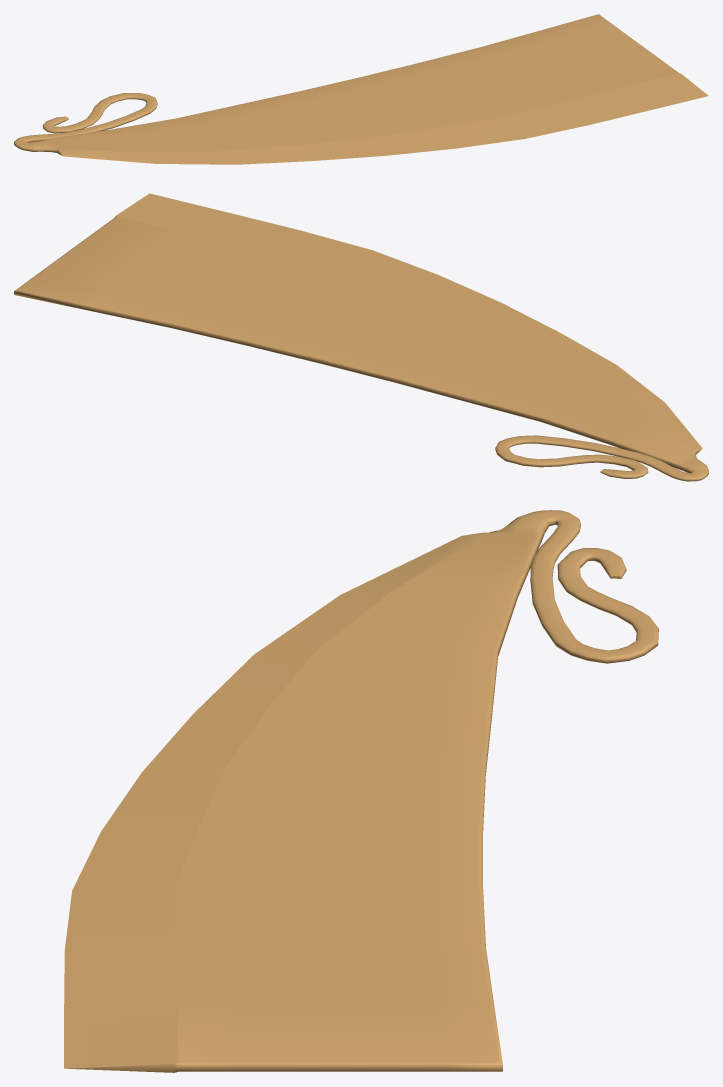
Rendered from medievalrazor.fbx.
3 views of the same model, one above another, from view 1: azimuth 30°, elevation 25°; view 2: azimuth 150°, elevation 25°; view 3: azimuth 270°, elevation 25° (orthographic). The views are drawn at different scales.
Visible parts, largest first — view 1: Razor; view 2: Razor; view 3: Razor.
Part boxes in pixels (bbox=[...]): Razor: bbox=[14, 14, 708, 164]; Razor: bbox=[14, 193, 708, 481]; Razor: bbox=[64, 510, 658, 1072].
Size of the model in its own units: 3.54 by 0.026 by 1.6.
